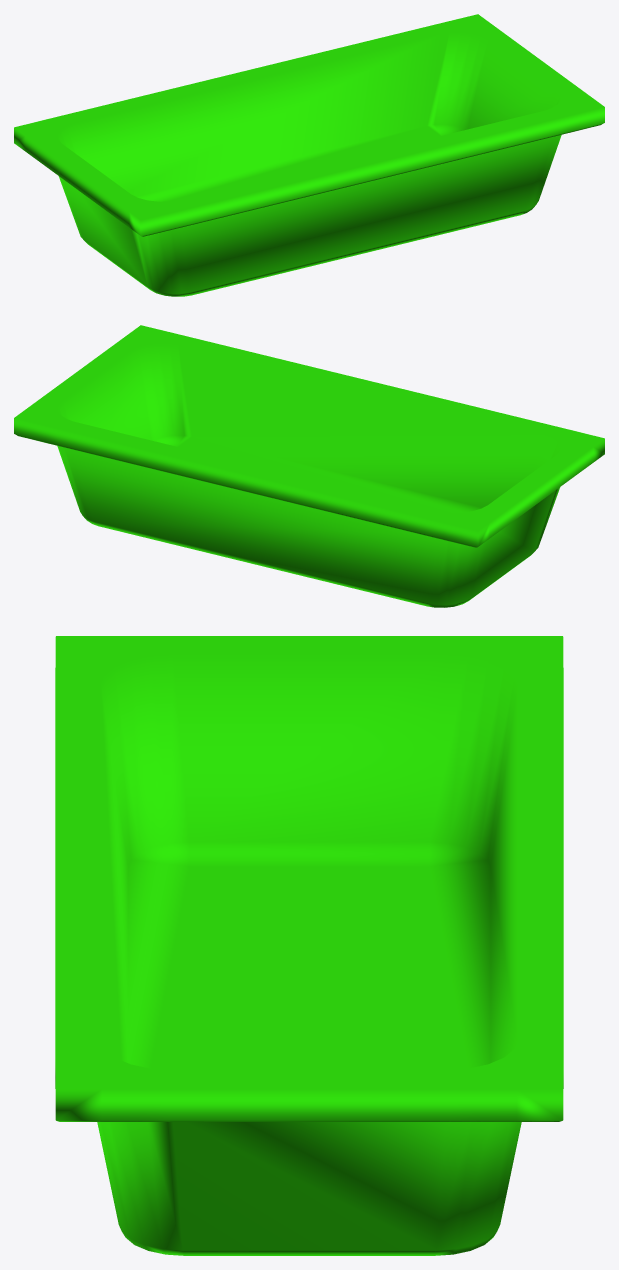
The model's file is Bathtube_01_Faience_Lod.fbx.
The picture shows the model from 3 angles, top to bottom: view 1: azimuth 30°, elevation 25°; view 2: azimuth 150°, elevation 25°; view 3: azimuth 270°, elevation 25°; orthographic projection. The views are drawn at different scales.
Parts seen in each view (by area): view 1: Bathtube_01_Faience_Lod; view 2: Bathtube_01_Faience_Lod; view 3: Bathtube_01_Faience_Lod.
Part boxes in pixels (left/top/right/bottom): Bathtube_01_Faience_Lod: left=14, top=14, right=604, bottom=296; Bathtube_01_Faience_Lod: left=14, top=325, right=604, bottom=607; Bathtube_01_Faience_Lod: left=55, top=636, right=563, bottom=1255.
Size of the model in its own units: 242 by 51.85 by 115.
